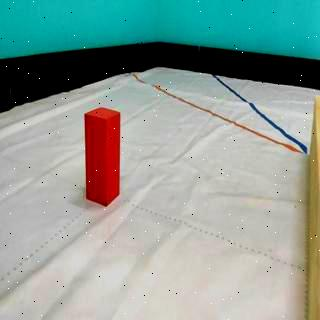redbox: (84, 106, 122, 207)
